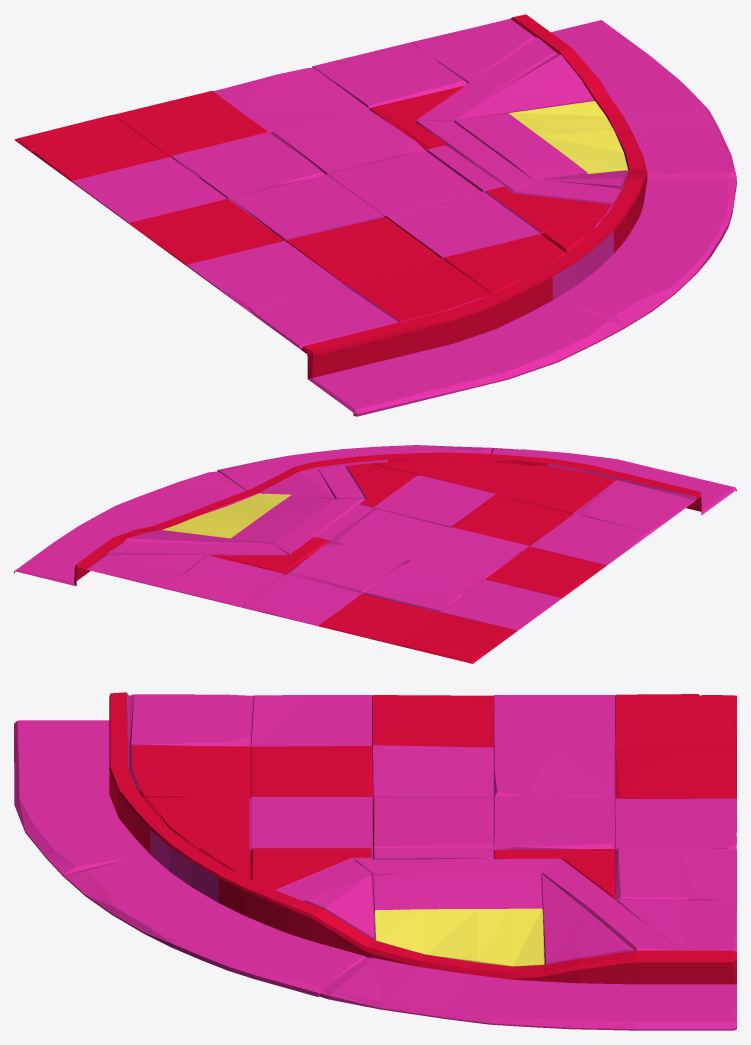
File: Sidewalk07.fbx
3 renders of one model, top to bottom at view 1: azimuth 30°, elevation 25°; view 2: azimuth 150°, elevation 25°; view 3: azimuth 270°, elevation 25°, orthographic. The views are drawn at different scales.
Visible parts, largest first — view 1: SM_Sidewalk_02a.mo; view 2: SM_Sidewalk_02a.mo; view 3: SM_Sidewalk_02a.mo.
Boxes of the visible parts, left/top/right/bottom form: SM_Sidewalk_02a.mo: left=14, top=14, right=736, bottom=416; SM_Sidewalk_02a.mo: left=14, top=445, right=736, bottom=663; SM_Sidewalk_02a.mo: left=14, top=692, right=736, bottom=1030.
Bounding box in the file's own units: 595 × 30.98 × 595.
